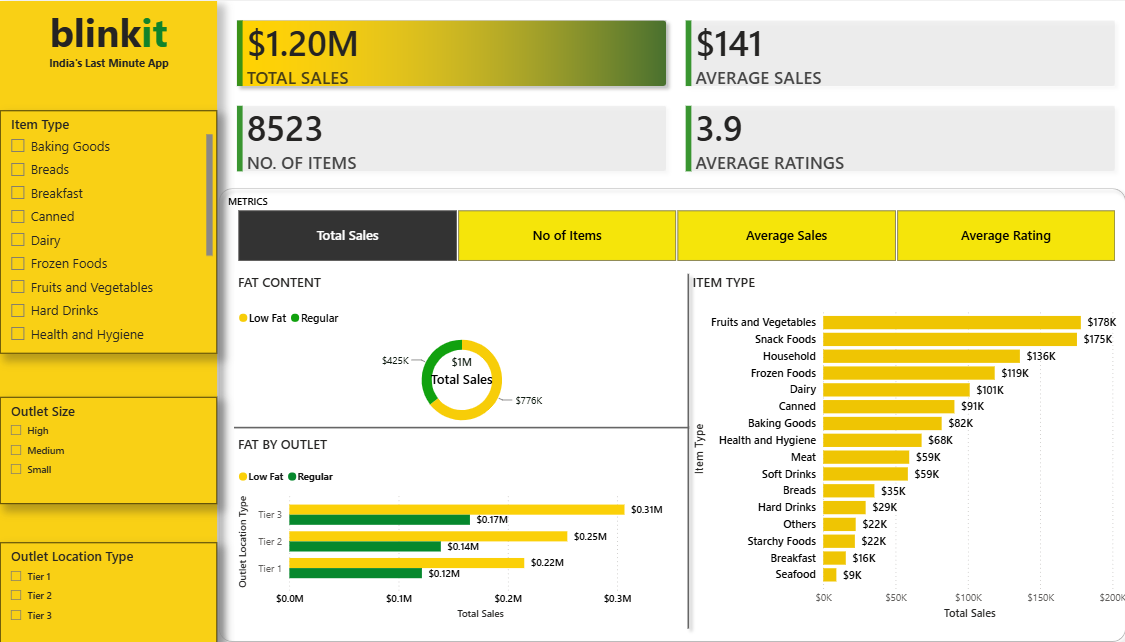

The dashboard page shown, as its layout file describes it:
{"tool":"powerbi","page":{"name":"Dashboard 1","canvas":[1400,800],"ordinal":0},"visuals":[{"type":"shape","box":[0,0,268.3,801.9],"z":0},{"type":"textbox","box":[0,0,268,222],"z":1000},{"type":"textbox","box":[42,62,183.8,35.3],"z":2000},{"type":"cardVisual","fields":{"Data":["BlinkIT Grocery Data.Total Sales","BlinkIT Grocery Data.Average Sales","BlinkIT Grocery Data.No of Items","BlinkIT Grocery Data.Average Rating"]},"box":[267.9,0,1132.1,234],"z":3000},{"type":"shape","box":[262,222,1138,578],"z":4000},{"type":"donutChart","title":"FAT CONTENT","fields":{"Y":["BlinkIT Grocery Data.Total Sales"],"Category":["BlinkIT Grocery Data.Item Fat Content"]},"box":[288,336,562,200],"z":5000},{"type":"slicer","fields":{"Values":["Metrics.Metrics"]},"box":[268,234,1132,94],"z":6000},{"type":"cardVisual","fields":{"Data":["BlinkIT Grocery Data.Total Sales"]},"box":[500,416,140,80],"z":7000},{"type":"clusteredBarChart","title":"FAT BY OUTLET","fields":{"Y":["BlinkIT Grocery Data.Total Sales"],"Category":["BlinkIT Grocery Data.Outlet Location Type"],"Series":["BlinkIT Grocery Data.Item Fat Content"]},"box":[288,536,562,234],"z":8000},{"type":"shape","box":[288,516,562,20],"z":9000},{"type":"shape","box":[828,328,44,456],"z":10000},{"type":"barChart","title":"ITEM TYPE","fields":{"Y":["BlinkIT Grocery Data.Total Sales"],"Category":["BlinkIT Grocery Data.Item Type"]},"box":[850,336,550,434],"z":11000},{"type":"slicer","fields":{"Values":["BlinkIT Grocery Data.Item Type"]},"box":[0,136,268,300],"z":12000},{"type":"slicer","fields":{"Values":["BlinkIT Grocery Data.Outlet Size"]},"box":[0,488,268,132],"z":13000},{"type":"slicer","fields":{"Values":["BlinkIT Grocery Data.Outlet Location Type"]},"box":[0,668,268,132],"z":14000}]}

Visuals, with their boxes in screenshot pixels (x1, y1, x2, y2), scaled from the page's 1400x800 canvas onto the 1125x642 screenshot:
shape: bbox(0, 0, 216, 641)
textbox: bbox(0, 0, 215, 178)
textbox: bbox(34, 50, 181, 78)
cardVisual - BlinkIT Grocery Data.Total Sales x BlinkIT Grocery Data.Average Sales: bbox(215, 0, 1124, 188)
shape: bbox(211, 178, 1124, 641)
"FAT CONTENT" donutChart: bbox(231, 270, 683, 430)
slicer - Metrics.Metrics: bbox(215, 188, 1124, 263)
cardVisual - BlinkIT Grocery Data.Total Sales: bbox(402, 334, 514, 398)
"FAT BY OUTLET" clusteredBarChart: bbox(231, 430, 683, 618)
shape: bbox(231, 414, 683, 430)
shape: bbox(665, 263, 701, 629)
"ITEM TYPE" barChart: bbox(683, 270, 1124, 618)
slicer - BlinkIT Grocery Data.Item Type: bbox(0, 109, 215, 350)
slicer - BlinkIT Grocery Data.Outlet Size: bbox(0, 392, 215, 498)
slicer - BlinkIT Grocery Data.Outlet Location Type: bbox(0, 536, 215, 641)
